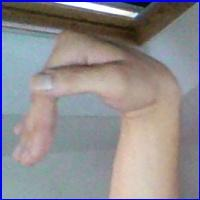del: (2, 27, 173, 180)
